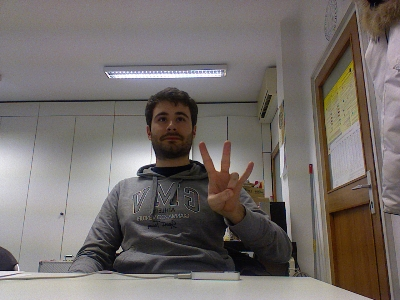观音: (197, 140, 254, 219)
